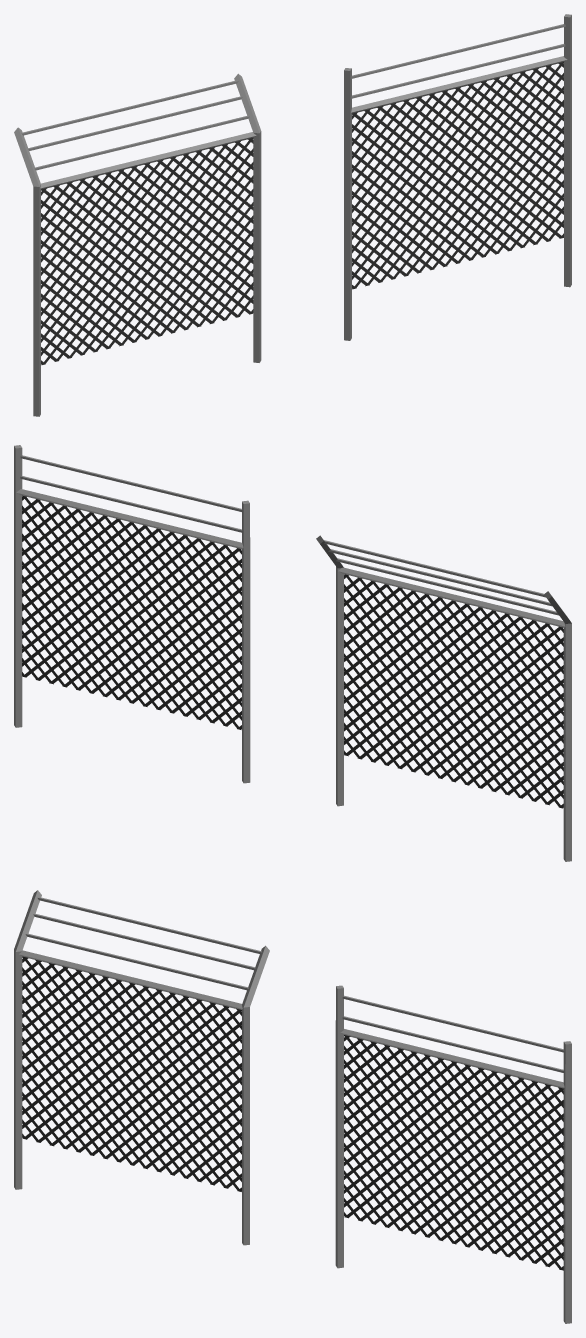
File: Fence.FBX
The picture shows the model from 3 angles, top to bottom: view 1: azimuth 30°, elevation 25°; view 2: azimuth 150°, elevation 25°; view 3: azimuth 330°, elevation 25°; orthographic projection. The views are drawn at different scales.
Visible parts, largest first — view 1: fence_01, fence_02; view 2: fence_01, fence_02; view 3: fence_01, fence_02.
Part boxes in pixels (x1,y1,x2,y2): fence_01: (14, 73, 261, 416); fence_02: (344, 14, 571, 340); fence_01: (316, 535, 571, 861); fence_02: (14, 445, 250, 783); fence_01: (14, 890, 269, 1245); fence_02: (335, 985, 571, 1323).
Size of the model in its own units: 867 by 421 by 60.37.
2 materials, 2 textured.
